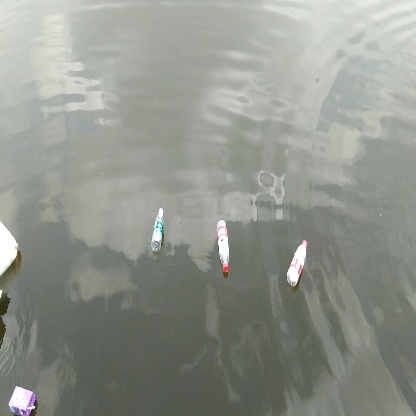bottle: (284, 236, 311, 290), (214, 217, 235, 275), (148, 206, 169, 256)
